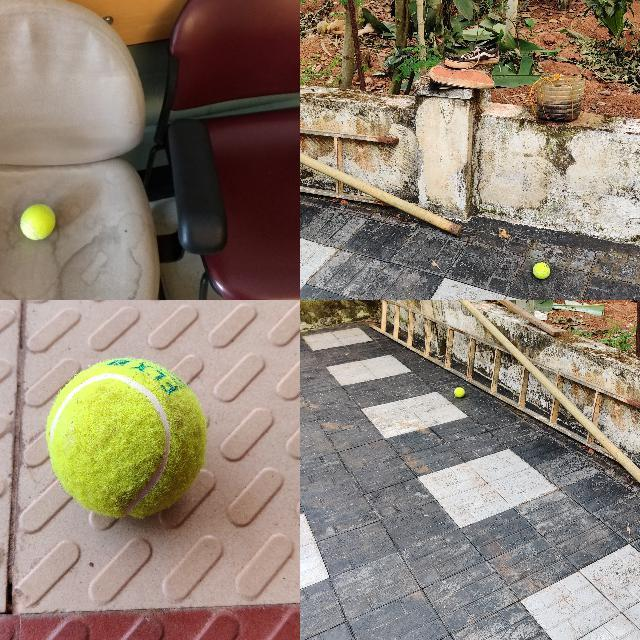tennis-ball: (46, 359, 206, 518), (19, 203, 55, 241), (532, 262, 550, 279), (454, 387, 465, 397)
